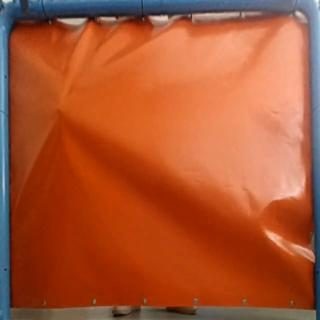Hit-hRxx: (48, 99, 69, 114)
